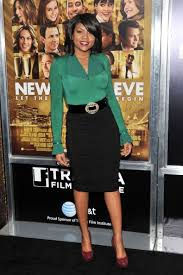F_tailored skirt: (63, 105, 126, 195)
